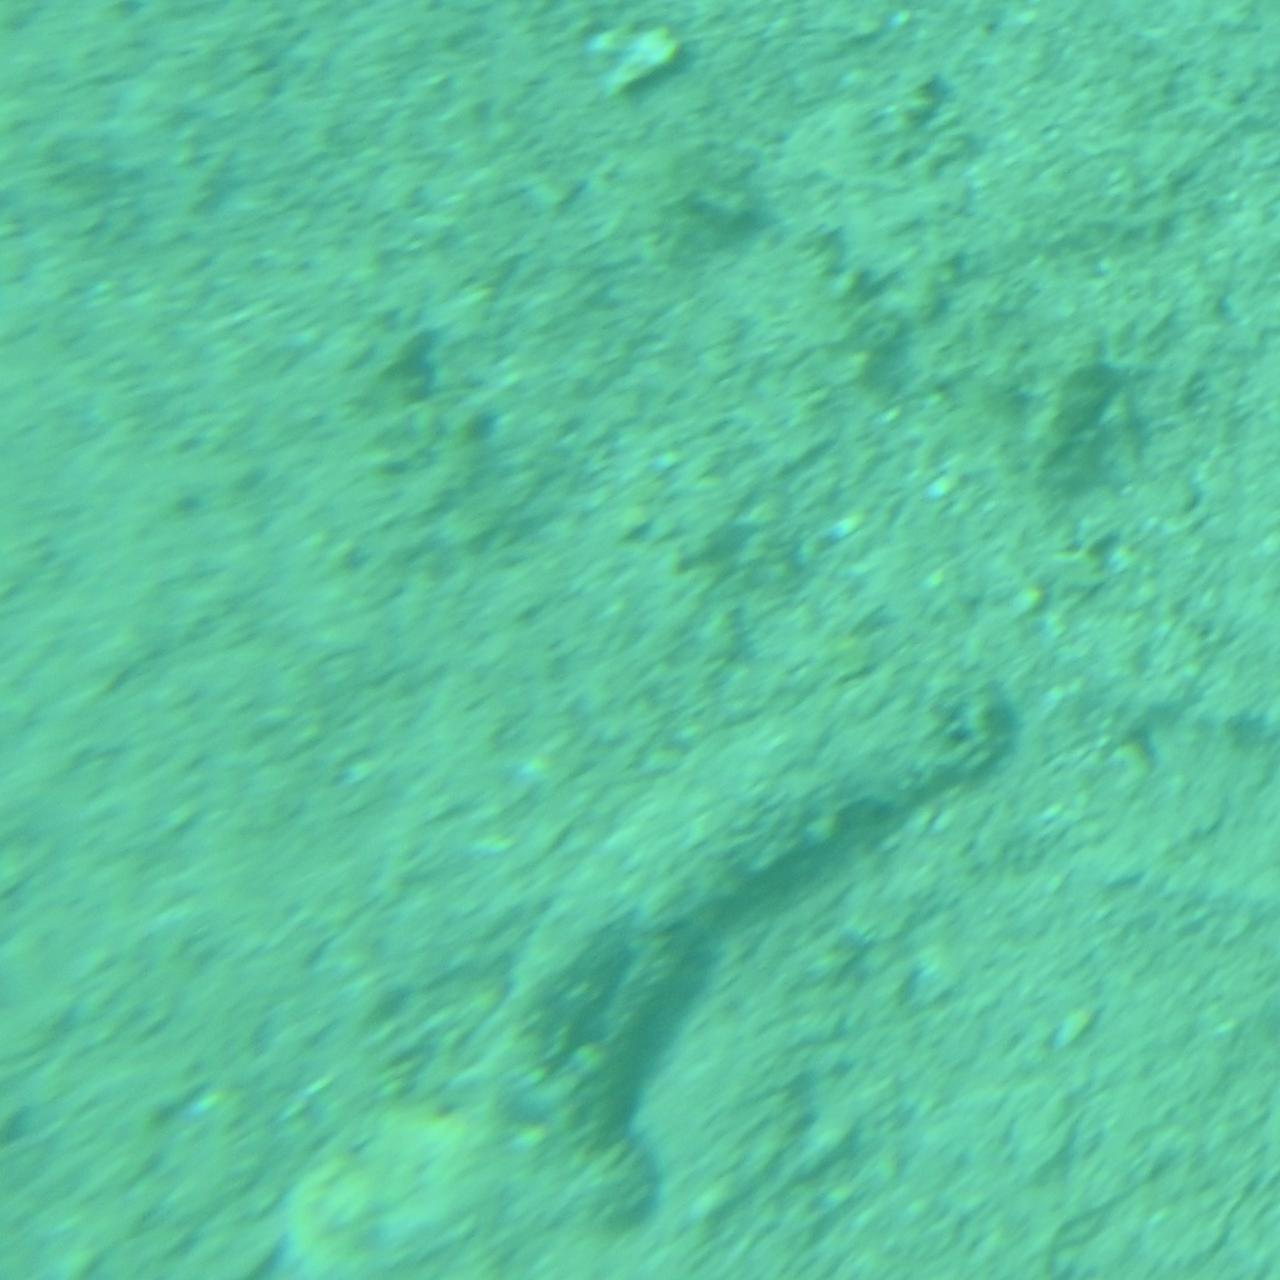Holothuria tubulosa: (253, 632, 1027, 1280)
